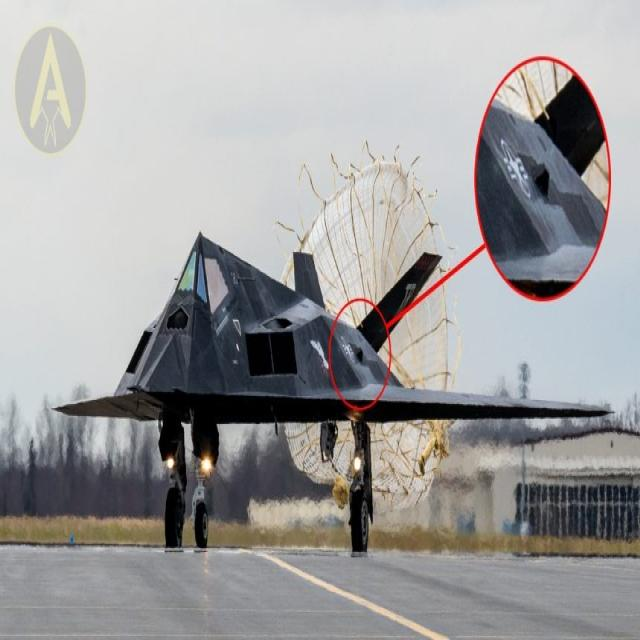F117: (52, 179, 640, 639)
